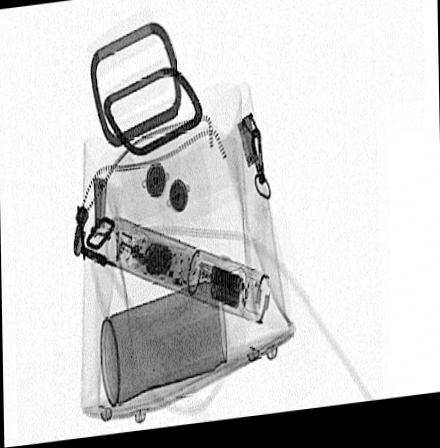Baton: (101, 215, 272, 333)
